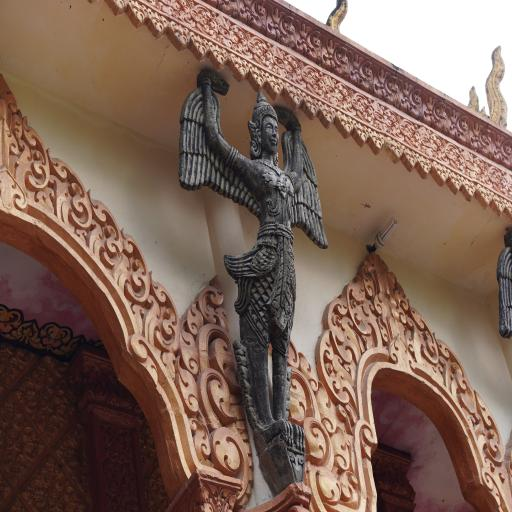la: (0, 68, 44, 222), (359, 248, 416, 365), (130, 259, 176, 357), (45, 136, 89, 236), (86, 178, 124, 273), (316, 324, 355, 413), (115, 216, 149, 309), (434, 334, 473, 415), (343, 268, 381, 348), (320, 290, 359, 367), (405, 297, 439, 377), (200, 321, 244, 380), (286, 365, 323, 434), (476, 394, 509, 470), (208, 428, 248, 490), (201, 362, 234, 428), (308, 460, 340, 512), (479, 456, 508, 512), (170, 359, 200, 413), (303, 414, 330, 473), (199, 280, 231, 328), (315, 378, 340, 437), (330, 423, 358, 475), (175, 319, 201, 371), (184, 408, 208, 464), (297, 344, 323, 392), (183, 284, 204, 336), (338, 466, 364, 508), (391, 337, 416, 377), (276, 325, 300, 366), (392, 276, 410, 312)
ran: (478, 38, 512, 140), (321, 0, 352, 42), (466, 76, 490, 127)
than: (152, 52, 360, 508)
